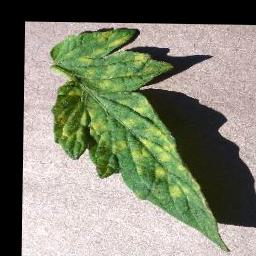Leaf_Mold: (48, 27, 234, 252)
